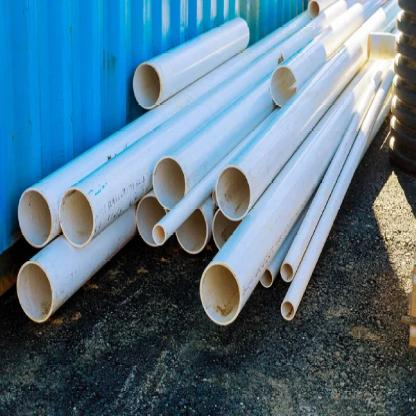PVC: (60, 1, 356, 247), (17, 8, 312, 250), (201, 57, 390, 325), (213, 1, 399, 223), (281, 66, 397, 320), (151, 45, 306, 212), (282, 61, 390, 282), (153, 103, 287, 244), (16, 202, 137, 326), (270, 1, 388, 107), (132, 15, 252, 111), (260, 180, 321, 288), (361, 90, 395, 163), (176, 195, 216, 256), (135, 186, 170, 250), (212, 208, 247, 249), (366, 29, 395, 63), (308, 0, 340, 17)
